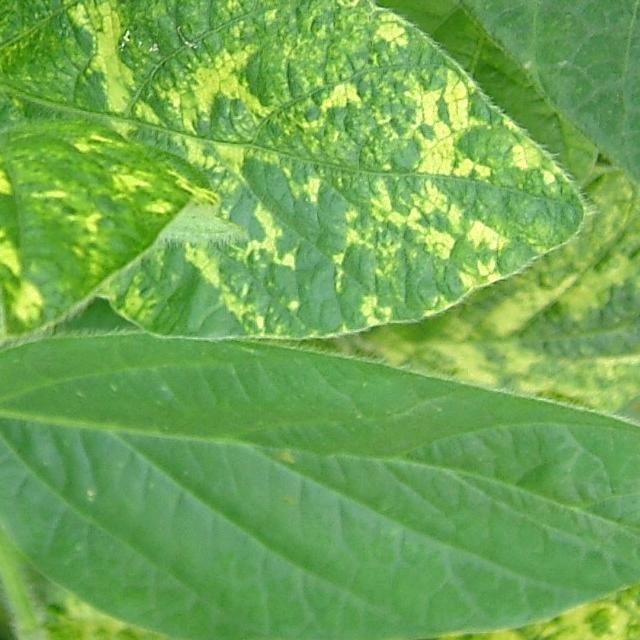Tomato leaf mosaic virus: (0, 327, 640, 640), (0, 0, 554, 317)
